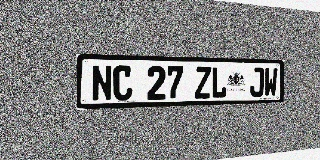2: (147, 66, 165, 100)
7: (166, 66, 183, 99)
C: (113, 65, 132, 101)
J: (250, 67, 264, 97)
L: (211, 67, 227, 98)
N: (92, 65, 112, 101)
W: (264, 68, 278, 97)
Z: (195, 66, 211, 99)
